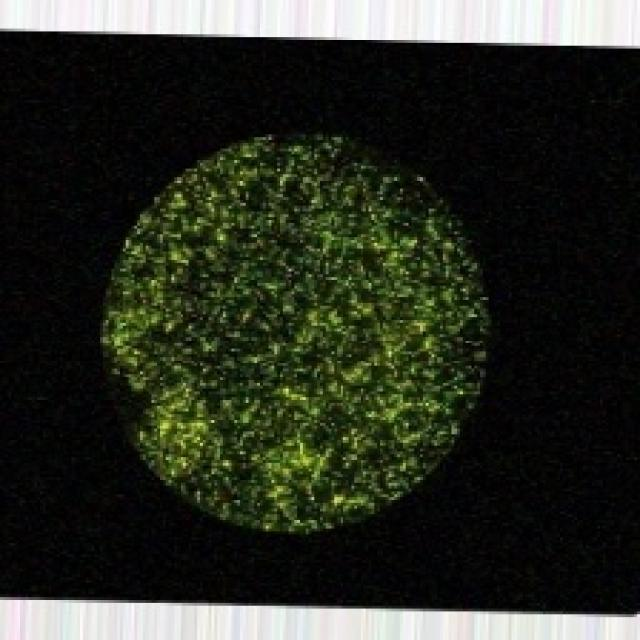Spherical_bacteria: (97, 126, 492, 534)
